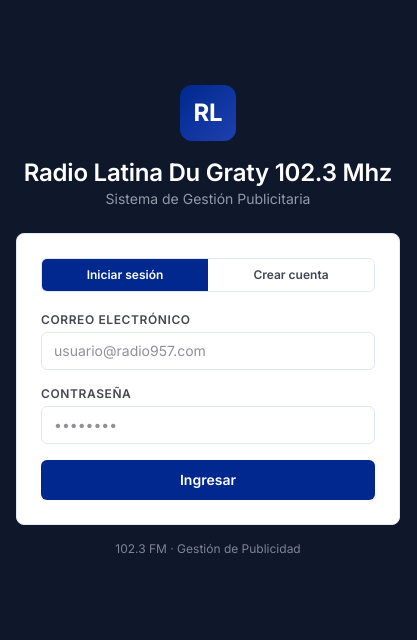
Auth page › en registro sin sesión devuelve notice de confirmación
This screenshot has width=417, height=640.
Click the button "Crear cuenta".
click(291, 275)  # box [208,259,374,291]
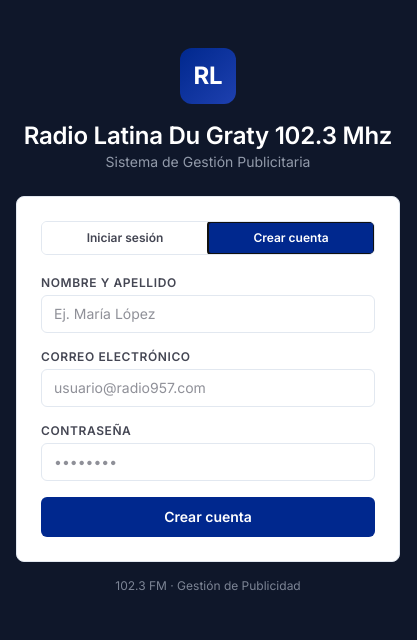
Type "Ana" into the field labelled "Nombre y apellido".
click(208, 314); type("Ana")  # box [41,295,375,333]
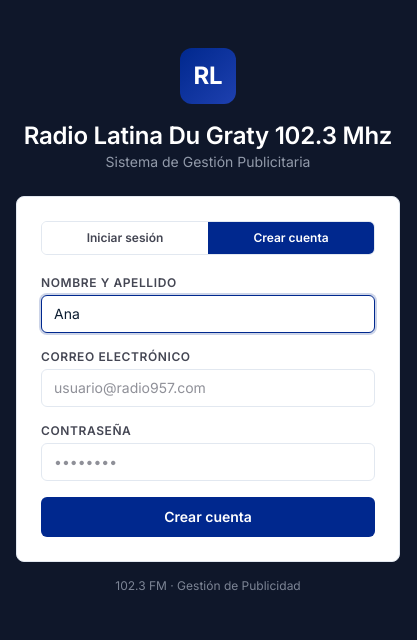
Type "ana@radio957.com" into the field labelled "Correo electrónico".
click(208, 388); type("ana@radio957.com")  # box [41,369,375,407]
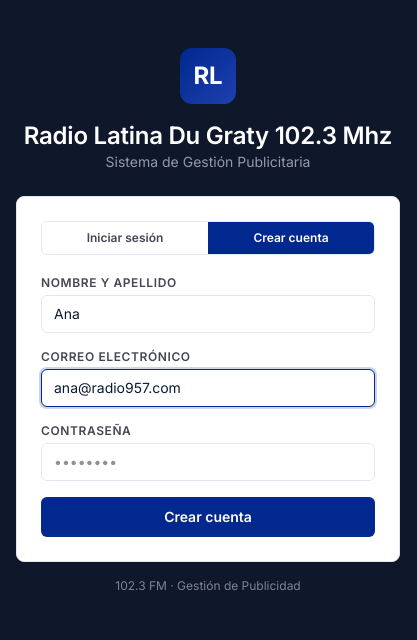
Type "secreto123" into the password field labelled "Contraseña".
click(208, 462); type("secreto123")  # box [41,443,375,481]
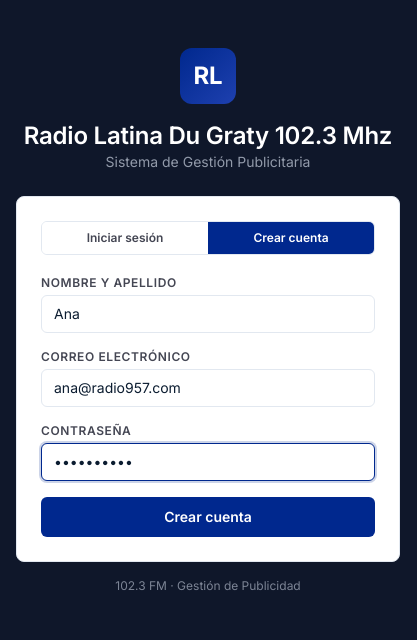
Click the button "Crear cuenta" below "Contraseña".
click(208, 517)  # box [41,497,375,537]
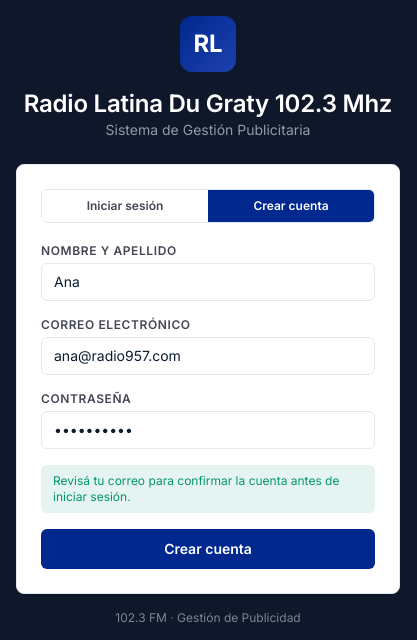
expect the text "Revisá tu correo para confirmar la cuenta" is shown: met, box [53,473,340,504]
